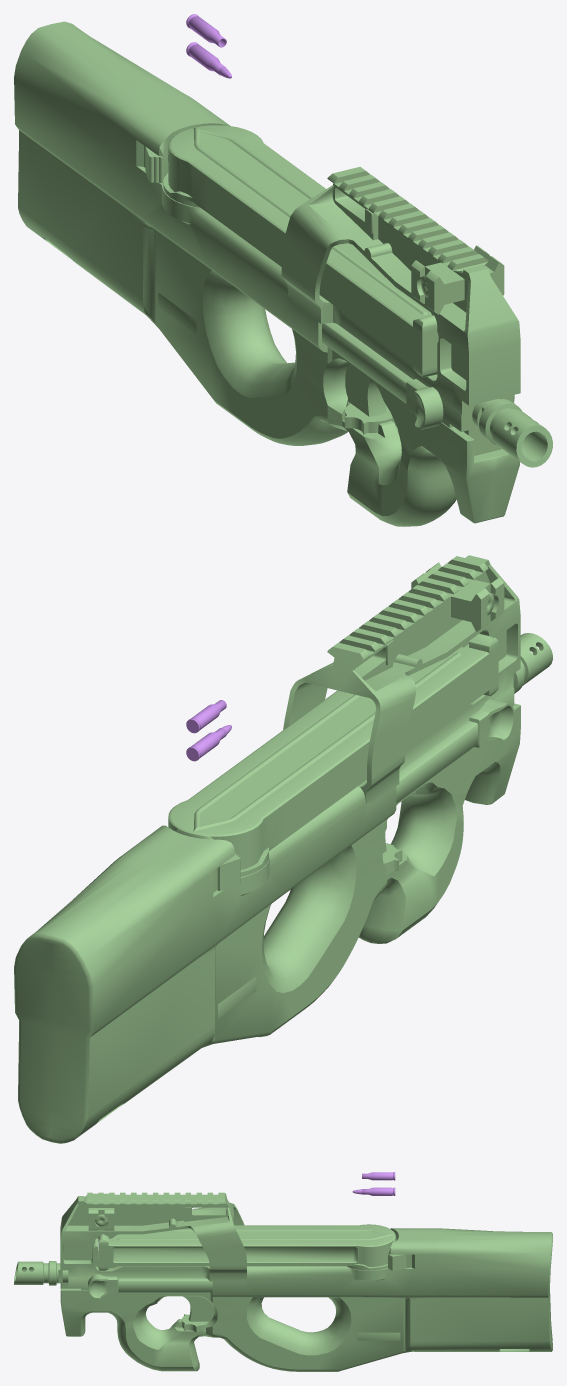
The model's file is WPN_R90.FBX.
3 views of the same model, one above another, from view 1: azimuth 30°, elevation 25°; view 2: azimuth 150°, elevation 25°; view 3: azimuth 270°, elevation 25° (orthographic). The views are drawn at different scales.
Parts seen in each view (by area): view 1: WPN_R90, WPN_R90_magazine, WPN_R90_right_handle, WPN_R90_trigger, cal_5_7x28, cal_5_7x28_shell; view 2: WPN_R90, WPN_R90_magazine, WPN_R90_right_handle; view 3: WPN_R90, WPN_R90_magazine, WPN_R90_left_handle, WPN_R90_trigger, cal_5_7x28, cal_5_7x28_shell.
Part boxes in pixels (box(x1,y1,x2,y2)): WPN_R90: box(14, 21, 552, 526); WPN_R90_magazine: box(163, 125, 438, 377); WPN_R90_right_handle: box(322, 322, 443, 429); WPN_R90_trigger: box(345, 363, 386, 416); cal_5_7x28: box(186, 42, 231, 78); cal_5_7x28_shell: box(186, 14, 226, 47); WPN_R90: box(14, 555, 552, 1143); WPN_R90_magazine: box(168, 633, 498, 876); WPN_R90_right_handle: box(396, 699, 514, 803); WPN_R90: box(14, 1192, 552, 1371); WPN_R90_magazine: box(98, 1224, 396, 1270); WPN_R90_left_handle: box(88, 1274, 212, 1299); WPN_R90_trigger: box(159, 1296, 214, 1321); cal_5_7x28: box(352, 1187, 395, 1195); cal_5_7x28_shell: box(362, 1172, 395, 1180).
Bounding box in the file's own units: 5.6 × 20.5 × 51.02.
